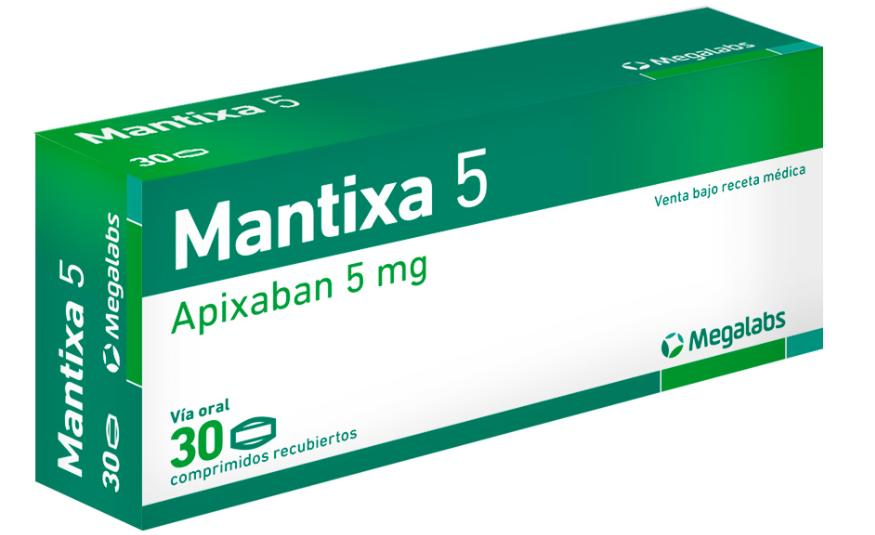brand: (685, 301, 798, 363)
extra_detail: (162, 243, 468, 350)
net_weight: (165, 414, 230, 477)
product_name: (171, 138, 524, 281)
